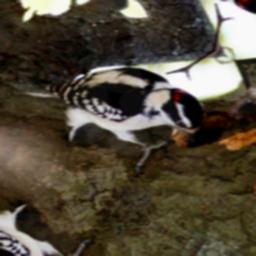Woodpecker: (15, 32, 223, 190)
